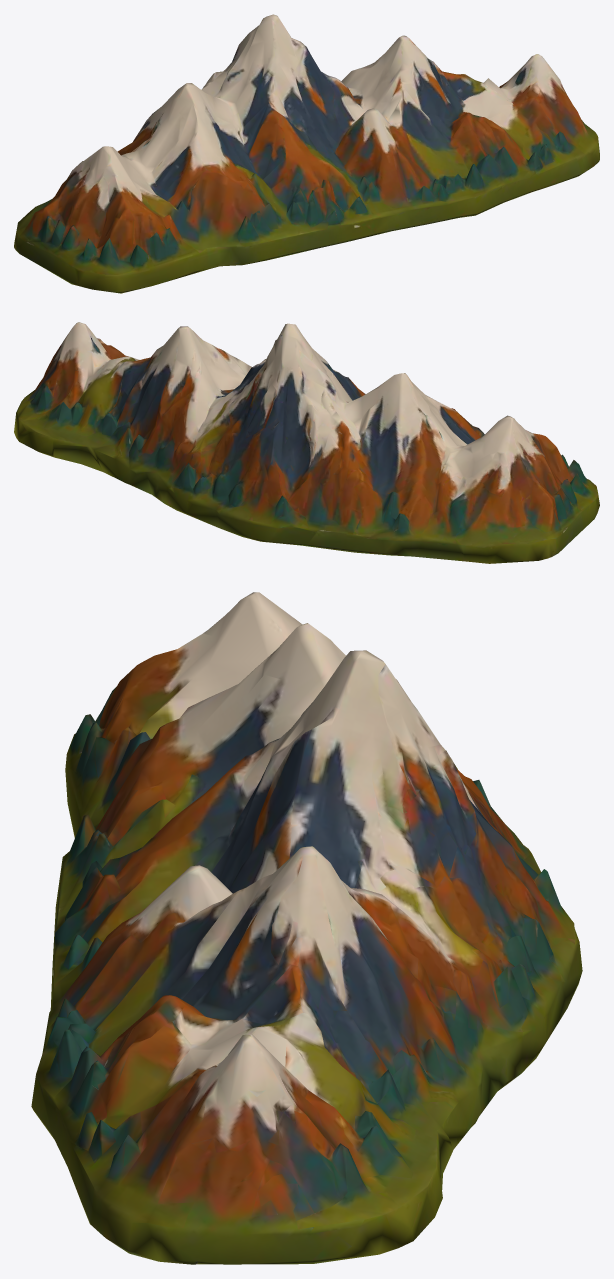
The model's file is chablais.glb.
3 views of the same model, one above another, from view 1: azimuth 30°, elevation 25°; view 2: azimuth 150°, elevation 25°; view 3: azimuth 270°, elevation 25° (orthographic). The views are drawn at different scales.
Visible parts, largest first — view 1: textured_mesh.obj; view 2: textured_mesh.obj; view 3: textured_mesh.obj.
Part boxes in pixels (left/top/right/bottom): textured_mesh.obj: left=14, top=14, right=599, bottom=293; textured_mesh.obj: left=14, top=322, right=599, bottom=563; textured_mesh.obj: left=31, top=592, right=582, bottom=1264.
Bounding box in the file's own units: 3.32 × 0.9994 × 1.46.
Materials: 1 (1 with a texture image).
